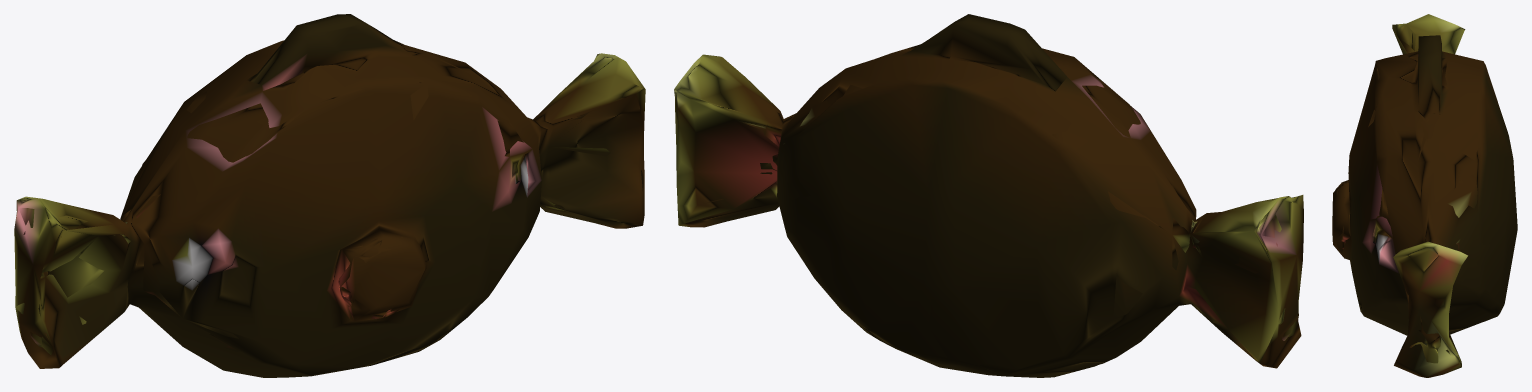
File: gen3d-pufferfish-lod0.glb
The picture shows the model from 3 angles, left to right: view 1: azimuth 30°, elevation 25°; view 2: azimuth 150°, elevation 25°; view 3: azimuth 270°, elevation 25°; orthographic projection. The views are drawn at different scales.
Visible parts, largest first — view 1: part_0; view 2: part_0; view 3: part_0.
Boxes of the visible parts, x1,y1,x2,y2 form: part_0: (14,14,645,377); part_0: (674,14,1303,377); part_0: (1332,14,1517,377).
Size of the model in its own units: 1.82 by 0.9965 by 0.6006.
